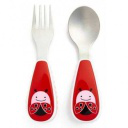Fork: (23, 2, 60, 122)
